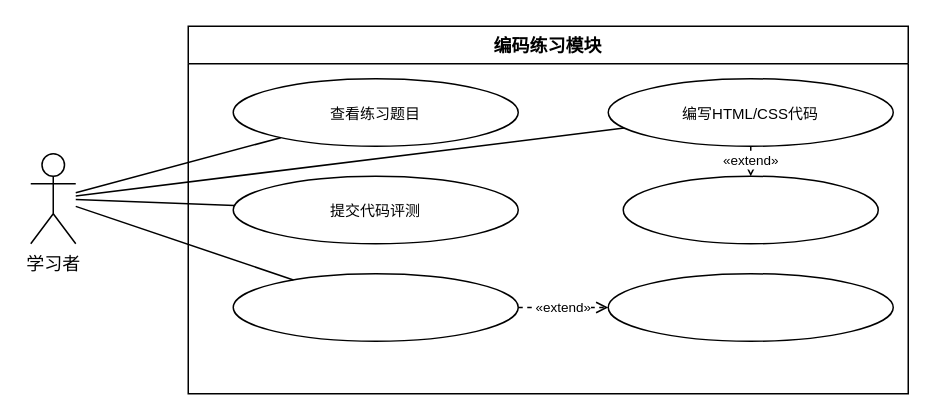
Image size: 935x420. Some labels were removed from this diagram. The shapes that lost their labels are listed below. From the top down, each one's centre as x and y in pixels, then its label:
(x=750, y=209): 草稿保存与预检
(x=375, y=306): 查看评测结果
(x=750, y=306): 获取AI辅助提示
